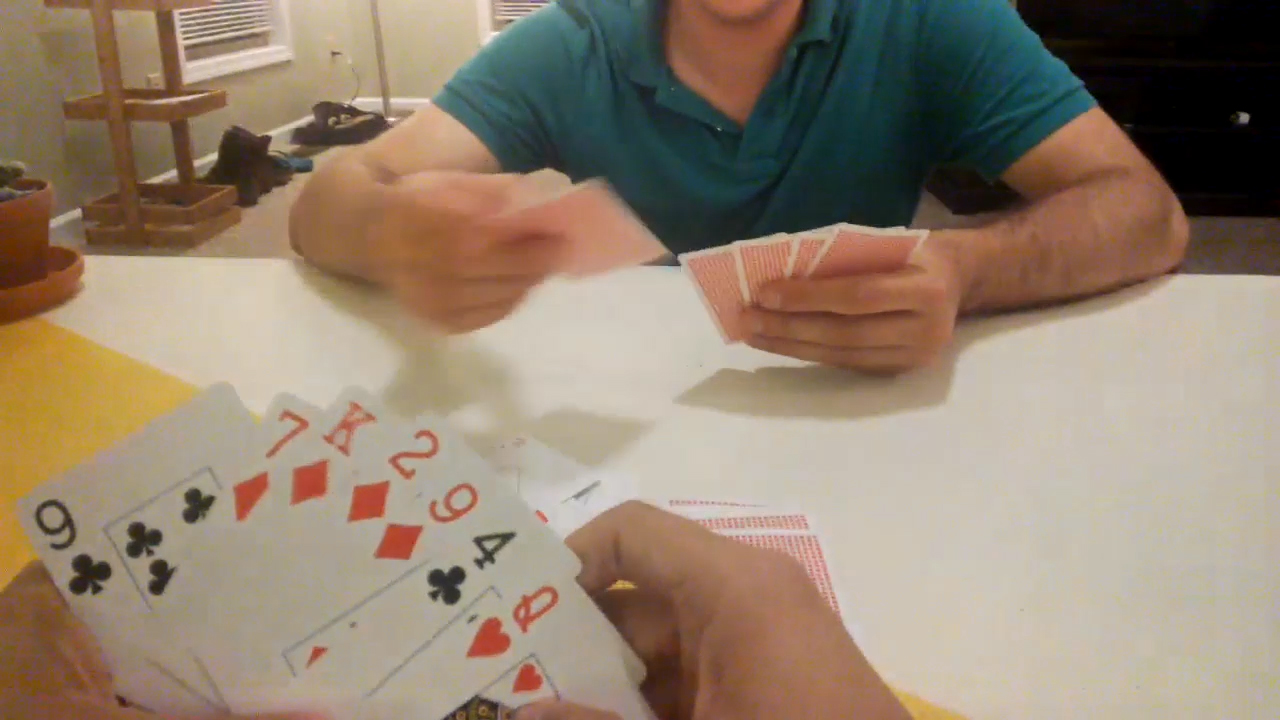hand: (509, 502, 898, 718), (0, 561, 347, 718), (735, 229, 958, 375), (373, 173, 564, 337)
